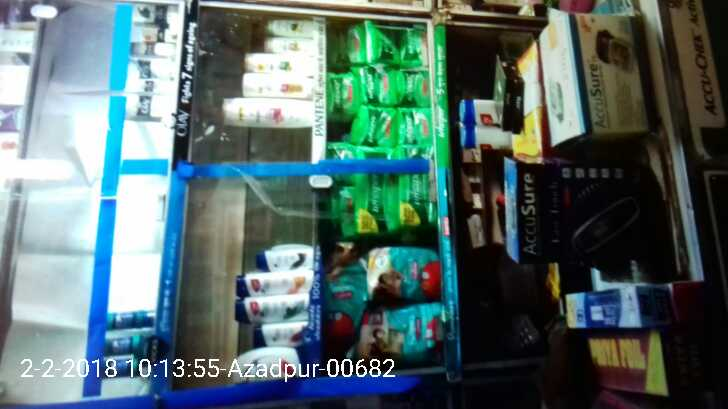vicks: (103, 307, 155, 377)
